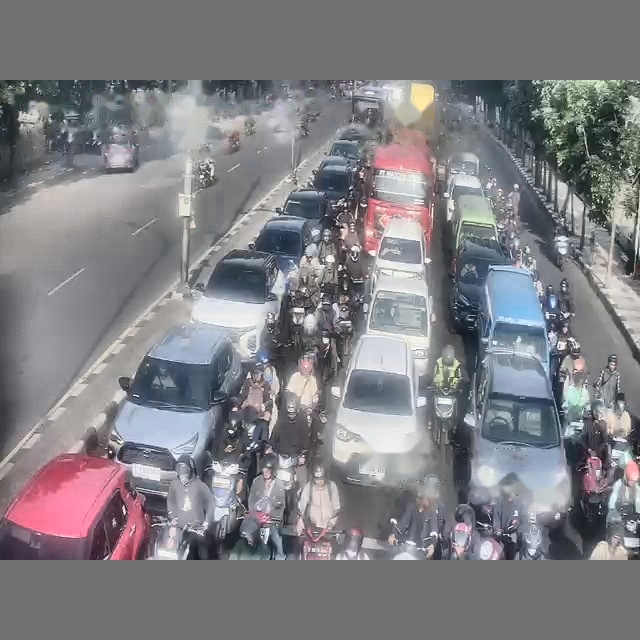Mobil: (107, 324, 245, 497), (464, 349, 570, 523), (0, 453, 149, 559), (331, 334, 426, 485), (191, 249, 285, 361), (366, 275, 434, 379), (449, 238, 510, 332), (370, 217, 430, 289), (249, 215, 316, 273), (276, 189, 332, 235), (444, 174, 483, 221), (313, 165, 354, 203), (102, 138, 138, 172), (447, 152, 479, 177), (328, 140, 362, 163), (312, 156, 355, 174), (338, 126, 373, 145)
Motor: (207, 461, 244, 556), (147, 517, 204, 559), (579, 454, 608, 529), (430, 385, 457, 459), (300, 525, 343, 559), (554, 231, 568, 269), (196, 159, 214, 188)
